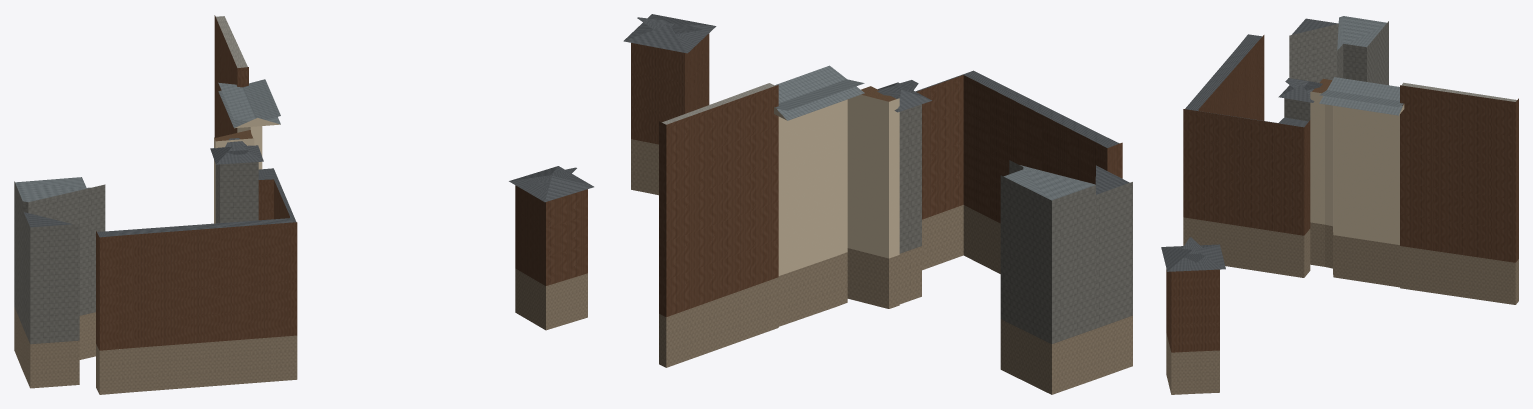
The model's file is bld_c4_-3_563.gltf.
3 renders of one model, left to right at view 1: azimuth 30°, elevation 25°; view 2: azimuth 150°, elevation 25°; view 3: azimuth 270°, elevation 25°, orthographic. The views are drawn at different scales.
Visible parts, largest first — view 1: bld_c4_-3_563; view 2: bld_c4_-3_563; view 3: bld_c4_-3_563.
Boxes of the visible parts, bbox=[...] form: bld_c4_-3_563: bbox=[14, 15, 593, 394]; bld_c4_-3_563: bbox=[623, 14, 1132, 394]; bld_c4_-3_563: bbox=[1161, 16, 1518, 394].
Size of the model in its own units: 59.41 by 25.38 by 39.09.
Materials: 11 (11 with a texture image).
